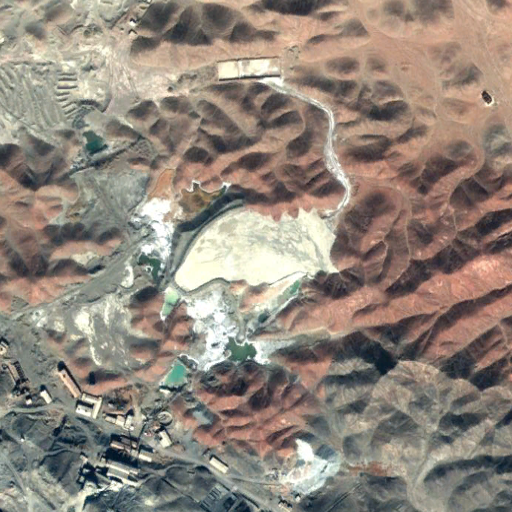tp: (172, 203, 339, 297)
